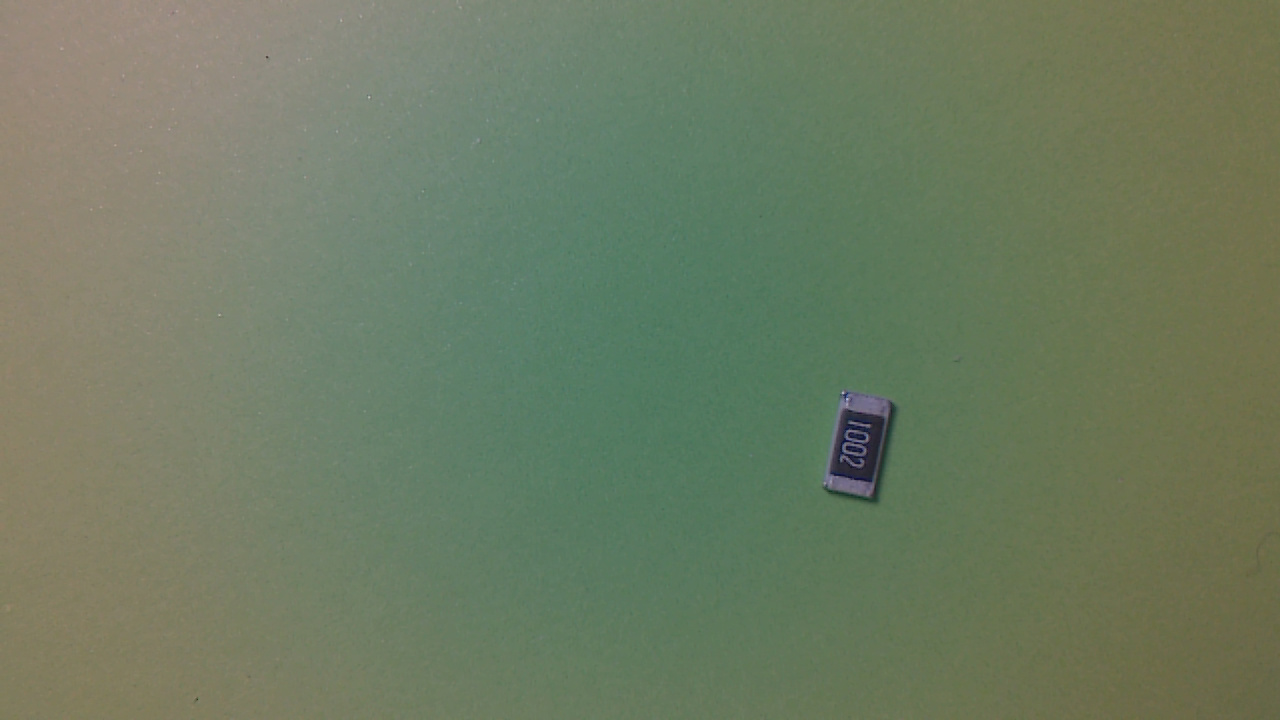Resistor: (820, 390, 908, 510)
